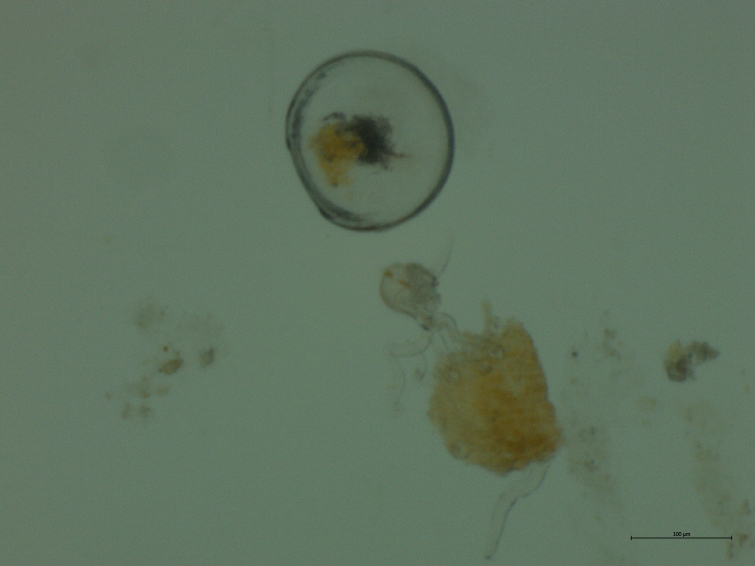oyster: (284, 40, 459, 236)
